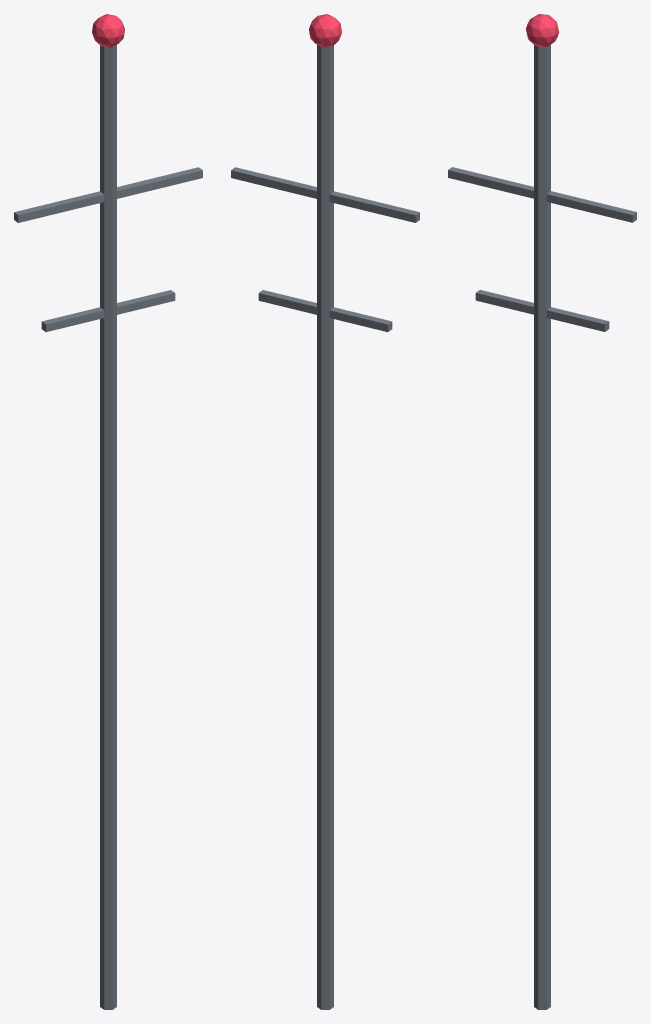
File: Jumping_Antenna.fbx
The picture shows the model from 3 angles, left to right: view 1: azimuth 30°, elevation 25°; view 2: azimuth 150°, elevation 25°; view 3: azimuth 330°, elevation 25°; orthographic projection.
Visible parts, largest first — view 1: Antenna; view 2: Antenna; view 3: Antenna.
Boxes of the visible parts, x1=… form: Antenna: x1=14, y1=14, x2=202, y2=1009; Antenna: x1=231, y1=14, x2=419, y2=1009; Antenna: x1=448, y1=14, x2=636, y2=1009.
Size of the model in its own units: 1 by 5.13 by 0.16.
